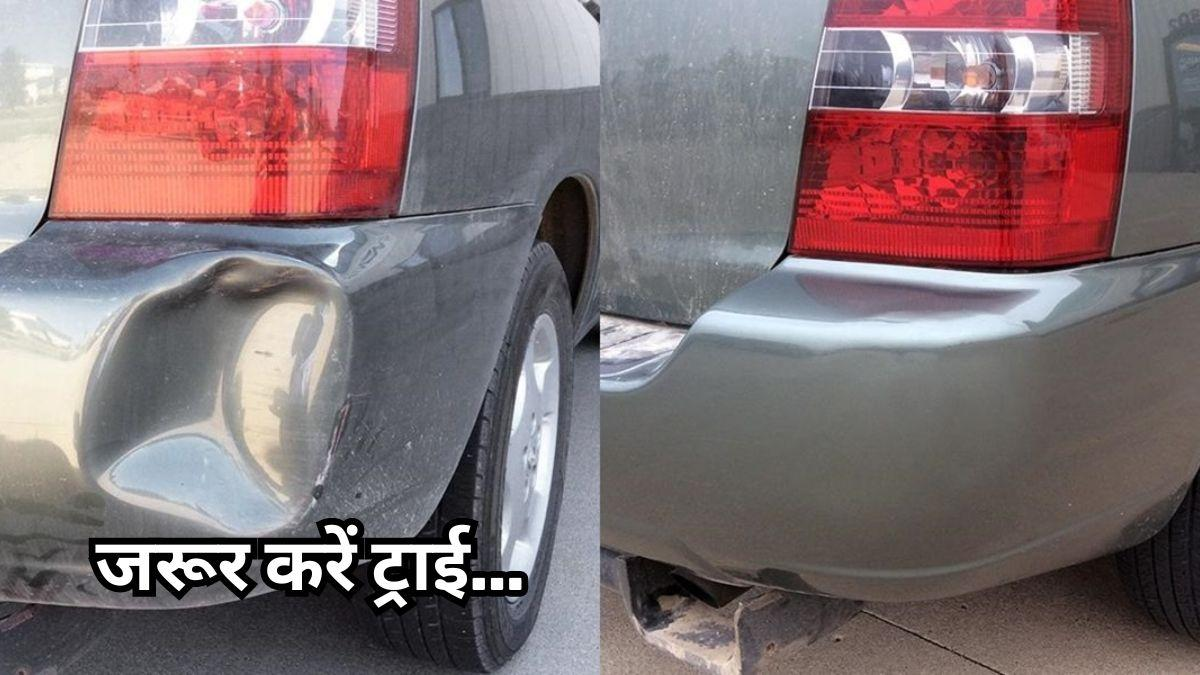dent: (66, 214, 374, 566)
